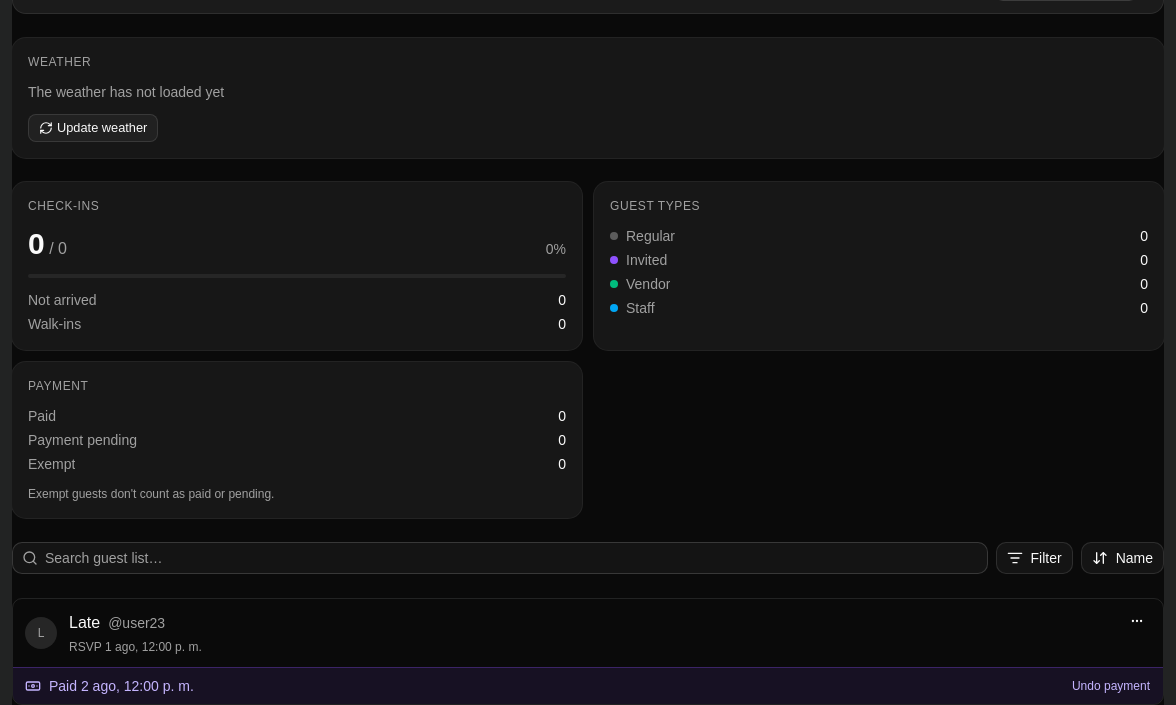
Test: MeetupDetailPage guest type menu › disables guest type options on a finalized meetup
The image size is (1176, 705).
(page scrolled)
Click the button named "Guest actions: Late": (1137, 620) [1119, 606, 1155, 634]
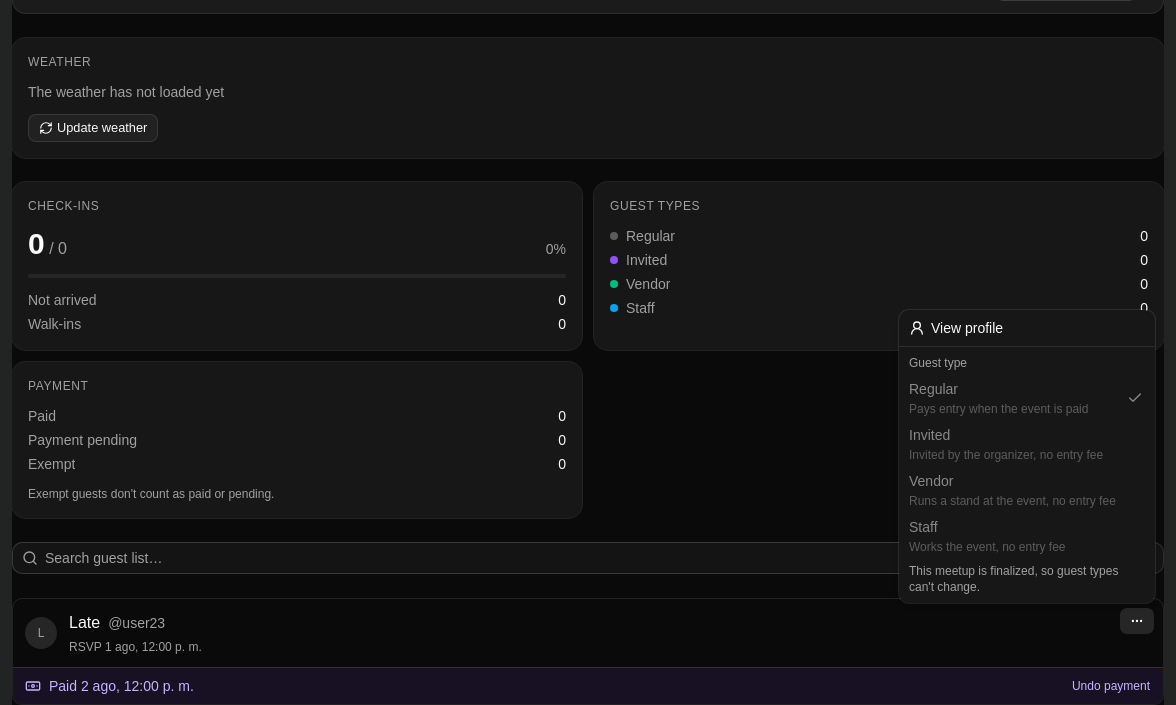
Expected: the text "This meetup is finalized, so guest types can't change." is shown, [909, 564, 1118, 594]
